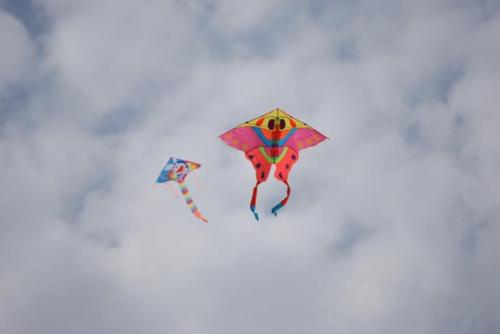kite: (216, 108, 333, 221), (156, 155, 210, 224)
